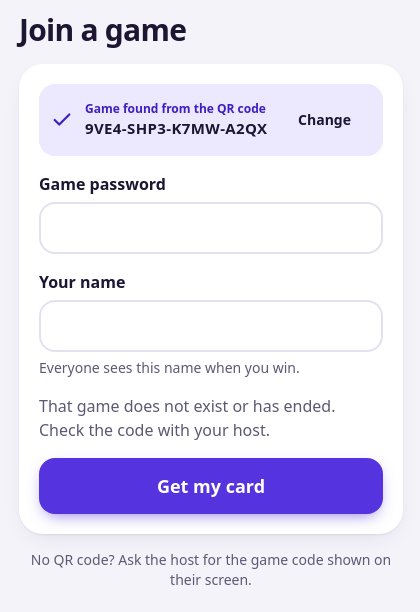
joining › lets a player change the code the QR found, in case it's the wrong game
The width and height of the screenshot is (420, 612).
Click the button "Change".
click(325, 120)  # box [278,96,371,144]
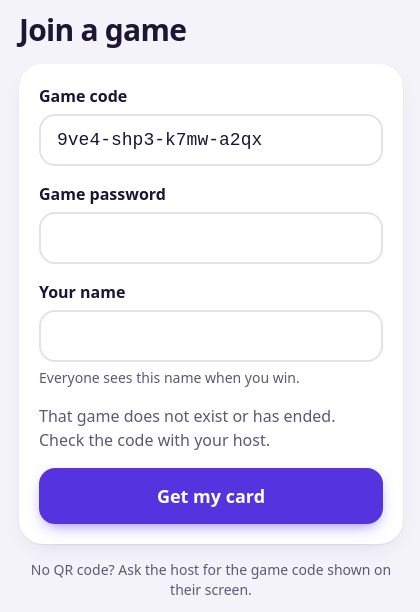
Now the field labelled "Game code" holds "9ve4-shp3-k7mw-a2qx", box [39,114,383,166]
